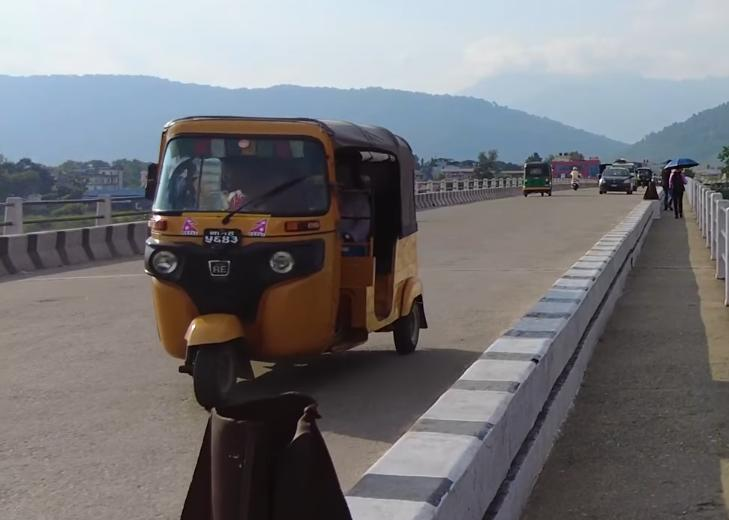auto_rickshaw: (135, 105, 435, 409), (522, 159, 558, 198)
